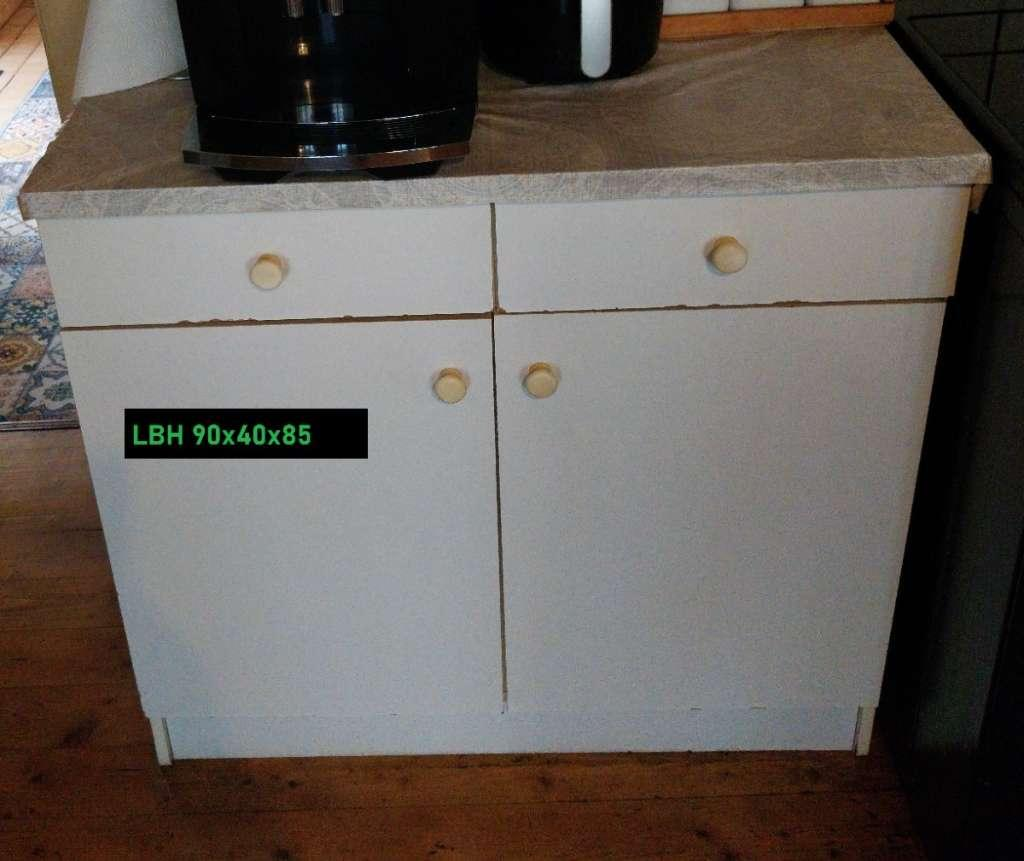cabinet_door: (499, 316, 911, 705), (106, 326, 495, 706), (494, 196, 957, 306), (46, 217, 489, 316)
handle: (696, 229, 755, 282), (517, 357, 561, 410), (430, 361, 472, 416), (247, 250, 292, 297)
